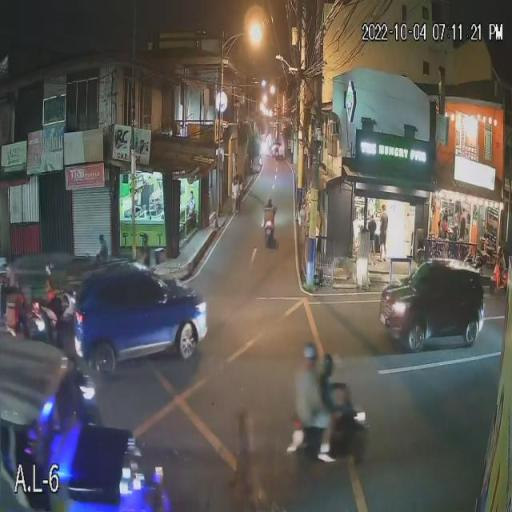helmet: (294, 341, 322, 364), (321, 352, 340, 381)
motorcycle: (292, 389, 391, 471)
rider: (283, 364, 341, 466), (317, 376, 350, 422)
